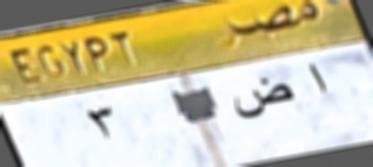3: (84, 98, 119, 144)
alif: (299, 50, 332, 102)
daad: (227, 74, 294, 126)
